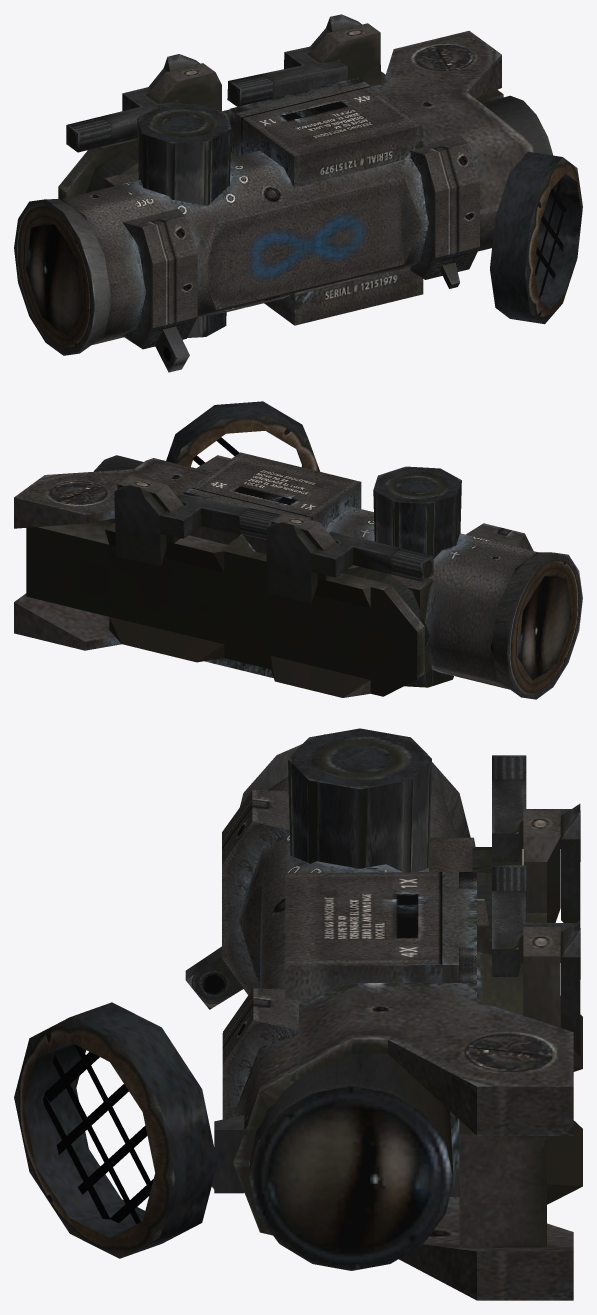
The model's file is t6_attach_optic_specter_world_LOD0.obj.
3 views of the same model, one above another, from view 1: azimuth 30°, elevation 25°; view 2: azimuth 150°, elevation 25°; view 3: azimuth 270°, elevation 25° (orthographic). The views are drawn at different scales.
Parts seen in each view (by area): view 1: mtl_t6_attach_optic_specter_camo1, mtl_t6_attach_optic_specter, mtl_t6_attach_optic_specter_camo2; view 2: mtl_t6_attach_optic_specter_camo1, mtl_t6_attach_optic_specter, mtl_t6_attach_optic_specter_camo2; view 3: mtl_t6_attach_optic_specter_camo1, mtl_t6_attach_optic_specter, mtl_t6_attach_optic_specter_camo2.
Part boxes in pixels (x1=…): mtl_t6_attach_optic_specter_camo1: x1=58, y1=23, x2=534, y2=349; mtl_t6_attach_optic_specter: x1=14, y1=14, x2=582, y2=372; mtl_t6_attach_optic_specter_camo2: x1=67, y1=74, x2=562, y2=337; mtl_t6_attach_optic_specter_camo1: x1=14, y1=452, x2=537, y2=697; mtl_t6_attach_optic_specter: x1=114, y1=416, x2=582, y2=699; mtl_t6_attach_optic_specter_camo2: x1=93, y1=401, x2=461, y2=687; mtl_t6_attach_optic_specter_camo1: x1=222, y1=776, x2=582, y2=1300; mtl_t6_attach_optic_specter: x1=14, y1=728, x2=580, y2=1270; mtl_t6_attach_optic_specter_camo2: x1=70, y1=755, x2=526, y2=1258.
Size of the model in its own units: 12.71 by 5.07 by 8.65.
